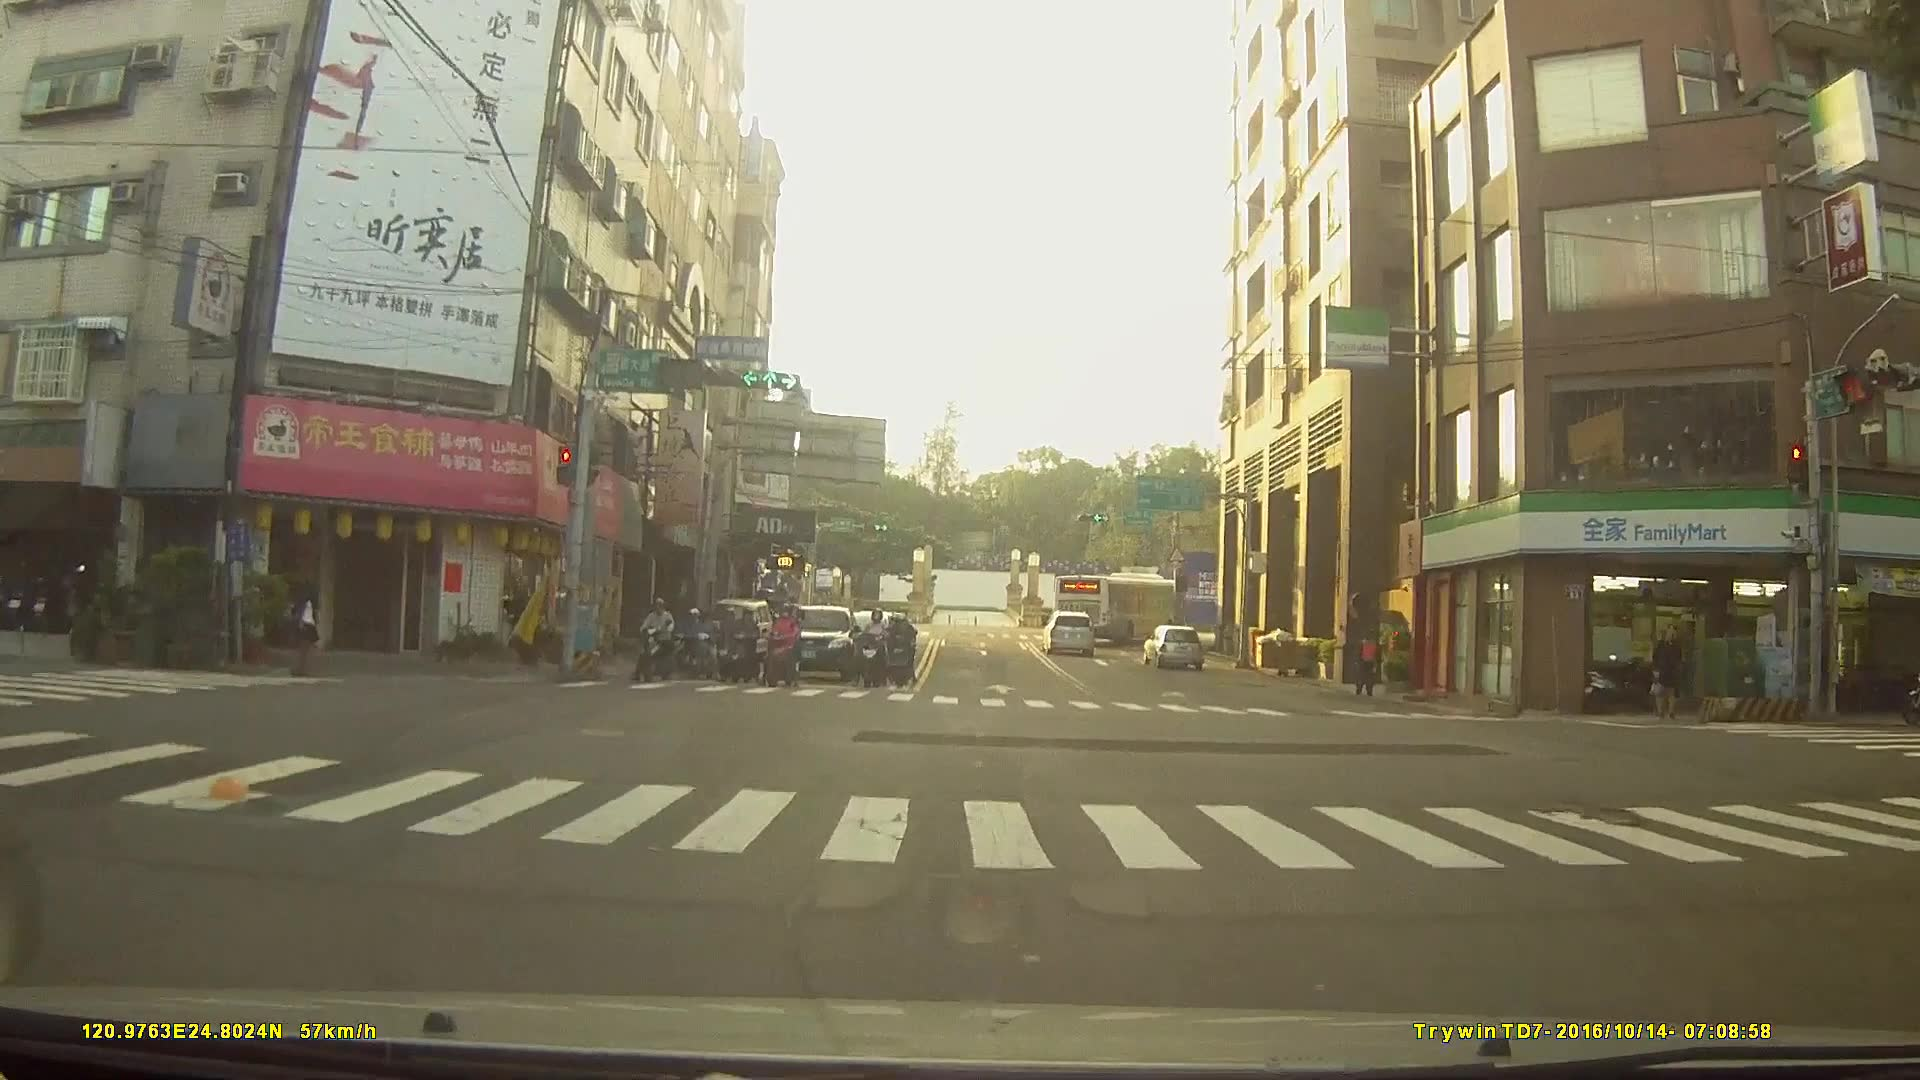pedestrian: (280, 574, 323, 674), (1649, 620, 1686, 722), (1353, 628, 1384, 696)
rider: (762, 596, 806, 688), (640, 595, 680, 686), (884, 605, 923, 686), (727, 602, 763, 679), (862, 603, 897, 684), (682, 599, 717, 671), (1901, 633, 1920, 724)
vehicle: (1051, 566, 1187, 638), (776, 603, 861, 678), (1139, 622, 1206, 668), (1042, 604, 1098, 652)
